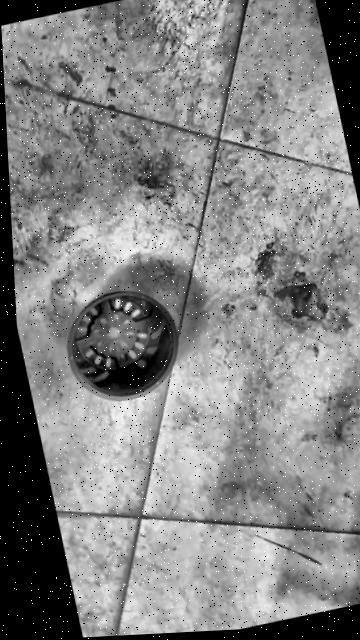pot: (54, 279, 189, 410)
